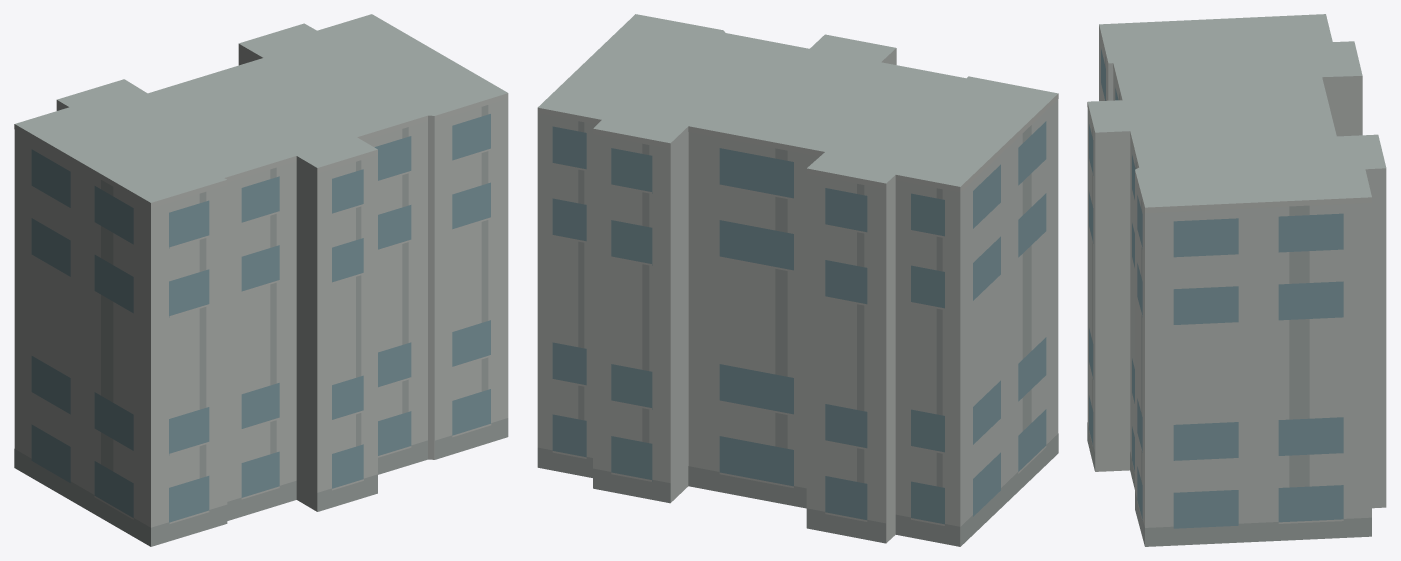
The model's file is survey-upis-32628635.glb.
3 views of the same model, side by side, from view 1: azimuth 30°, elevation 25°; view 2: azimuth 150°, elevation 25°; view 3: azimuth 270°, elevation 25° (orthographic). The views are drawn at different scales.
Visible parts, largest first — view 1: survey-upis-32628635.tmp; view 2: survey-upis-32628635.tmp; view 3: survey-upis-32628635.tmp.
Part boxes in pixels (x1=…): survey-upis-32628635.tmp: x1=14, y1=14, x2=508, y2=546; survey-upis-32628635.tmp: x1=537, y1=14, x2=1058, y2=546; survey-upis-32628635.tmp: x1=1087, y1=14, x2=1386, y2=546.
Bounding box in the file's own units: 18.61 × 15.2 × 12.15.
